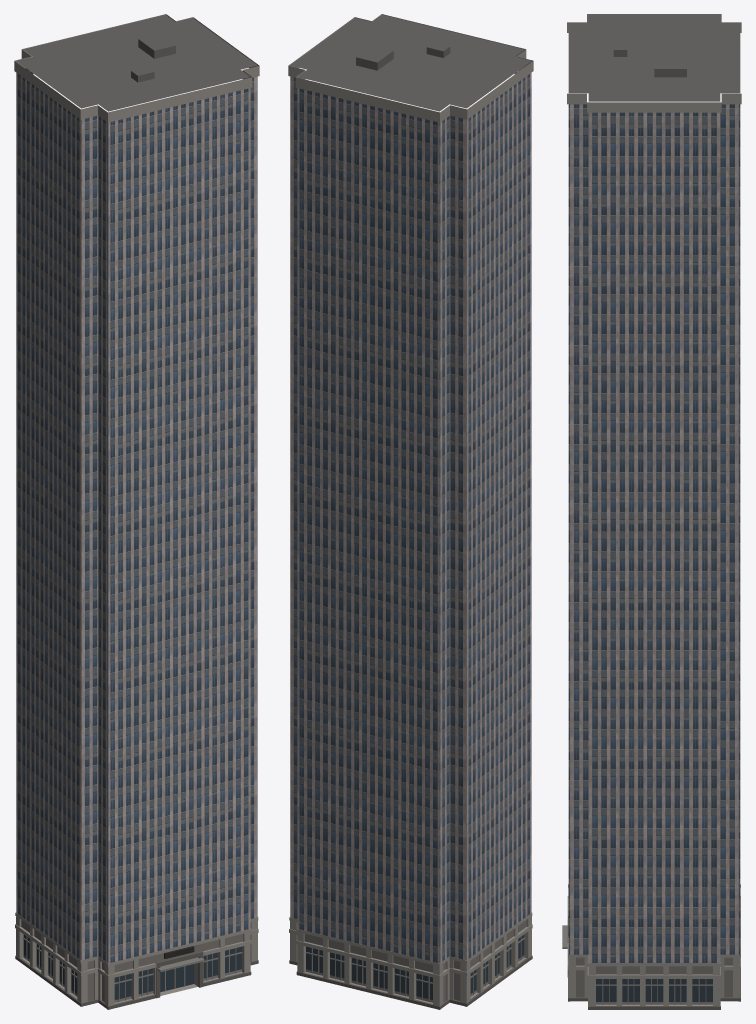
Rendered from wells_fargo_center.glb.
3 views of the same model, side by side, from view 1: azimuth 30°, elevation 25°; view 2: azimuth 150°, elevation 25°; view 3: azimuth 270°, elevation 25° (orthographic).
Visible parts, largest first — view 1: wells_fargo_center; view 2: wells_fargo_center; view 3: wells_fargo_center.
Part boxes in pixels (x1,y1,x2,y2): wells_fargo_center: (14,14,259,1009); wells_fargo_center: (288,14,533,1009); wells_fargo_center: (562,14,741,1009).
Bounding box in the file's own units: 36.5 × 177 × 31.35.
Materials: 2 (2 with a texture image).
